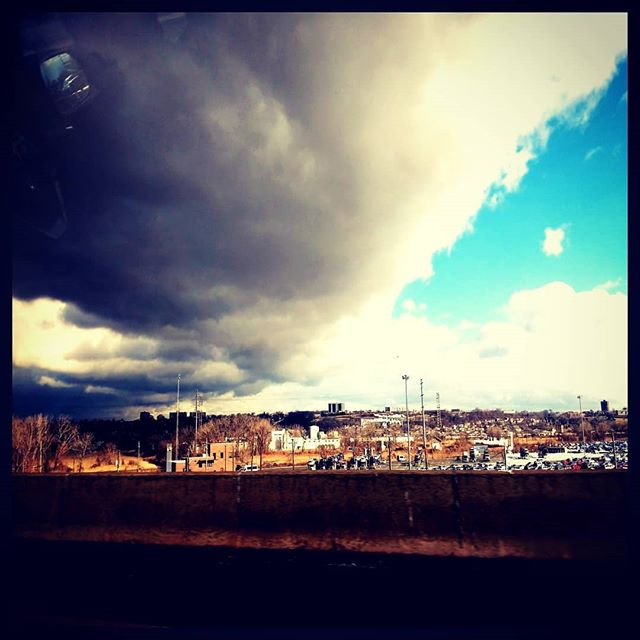sky: (21, 13, 624, 405)
